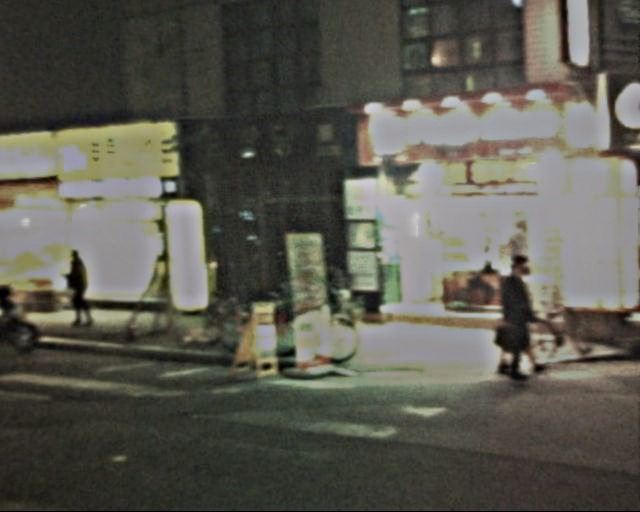person: (472, 253, 547, 383), (52, 239, 95, 331)
